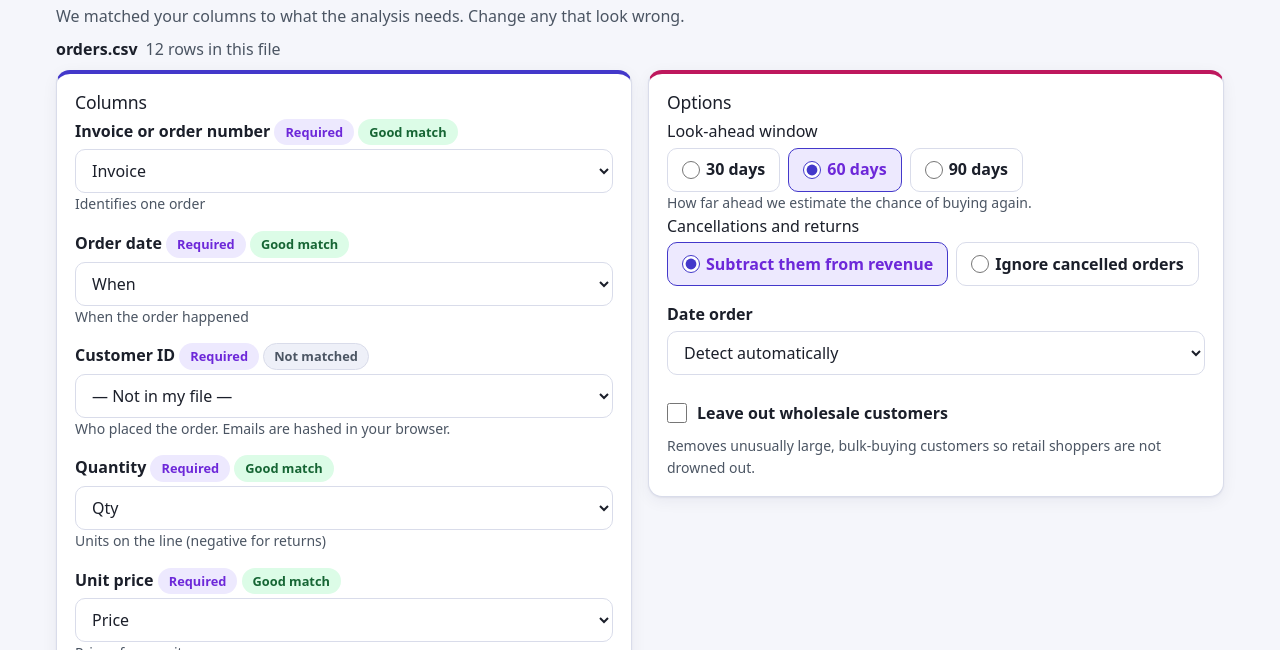
Scenario: MappingScreen › disables Run until every required field is mapped
The image size is (1280, 650).
Later steps or results of the test are not shown.
Select "Cust" in the dropdown labelled "Customer ID Required Not matched": [344, 396] box [75,374,613,418]
(page scrolled)
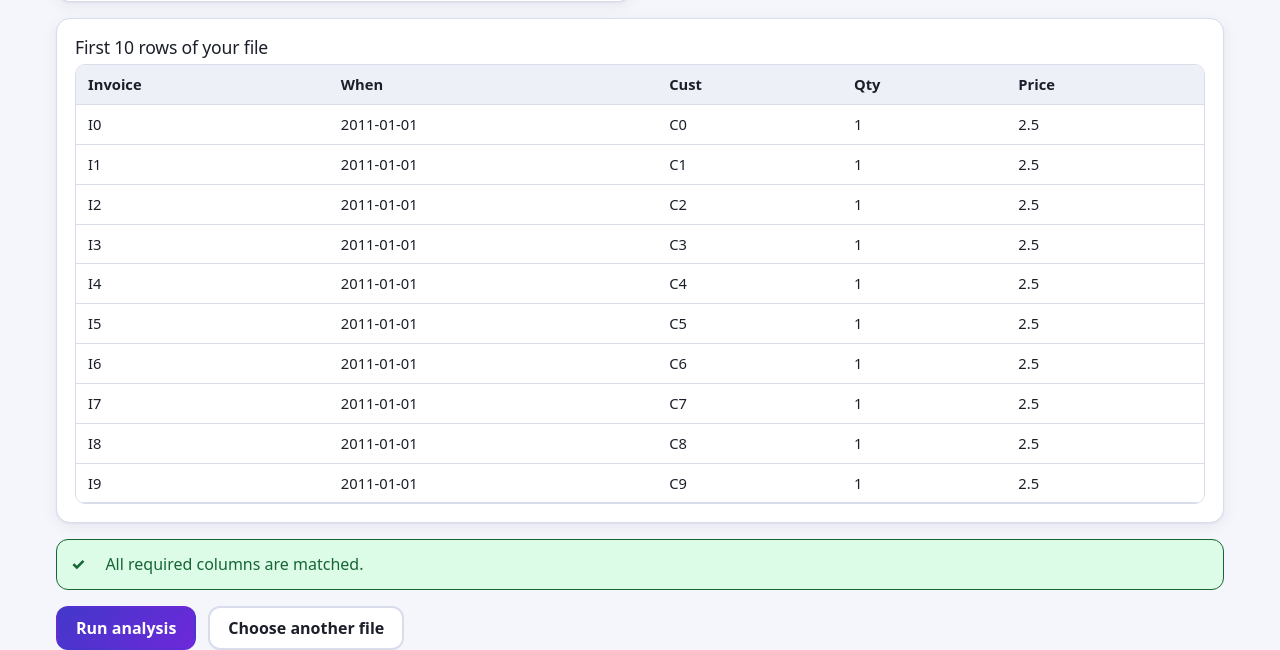
Now the button "Run analysis" is enabled, box [56,606,196,649]
